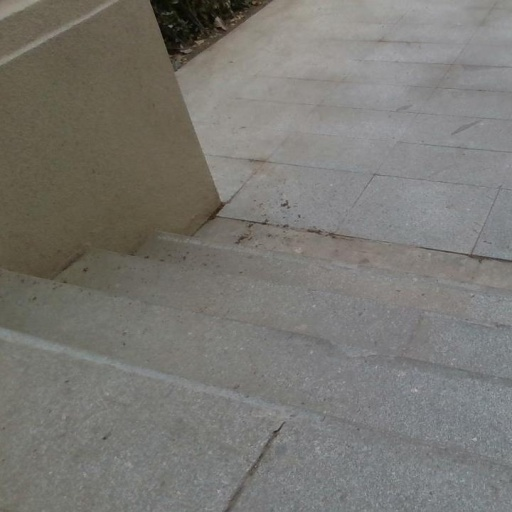Stairs: (2, 216, 512, 512)
